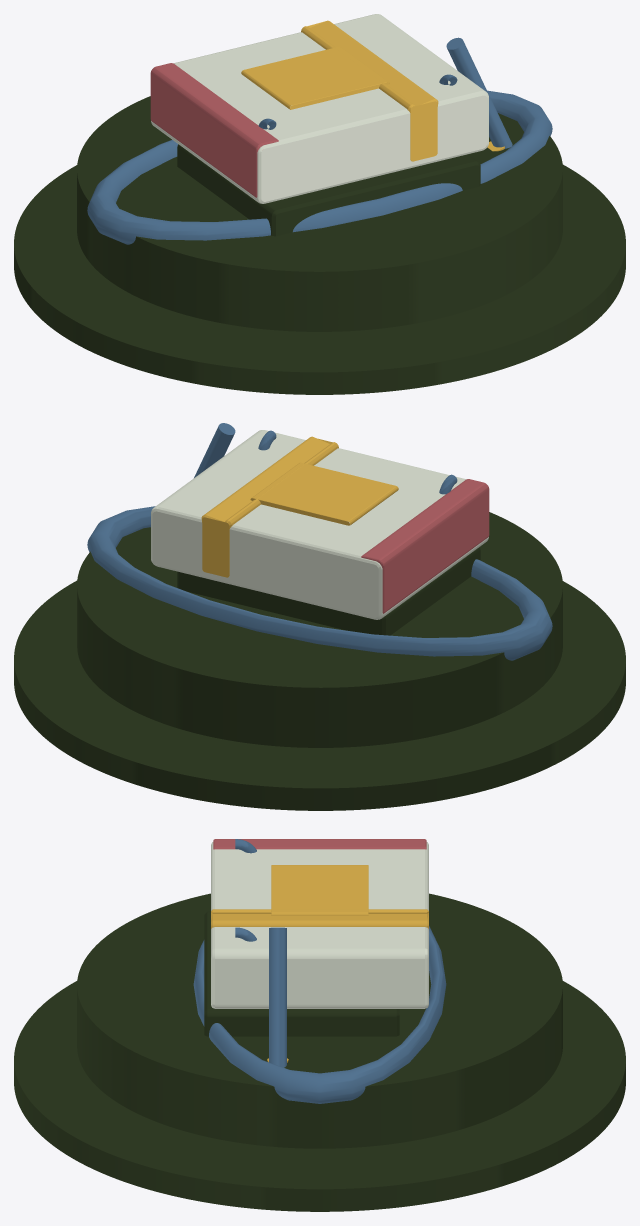
The model's file is 1326_中国古代寓言_《笑林》.glb.
3 renders of one model, top to bottom at view 1: azimuth 30°, elevation 25°; view 2: azimuth 150°, elevation 25°; view 3: azimuth 270°, elevation 25°, orthographic.
Visible parts, largest first — view 1: card_1326; view 2: card_1326; view 3: card_1326.
Boxes of the visible parts, x1,y1,x2,y2 form: card_1326: (14,14,625,394); card_1326: (14,423,625,810); card_1326: (14,839,625,1211).
Size of the model in its own units: 2.61 by 1 by 2.6.
